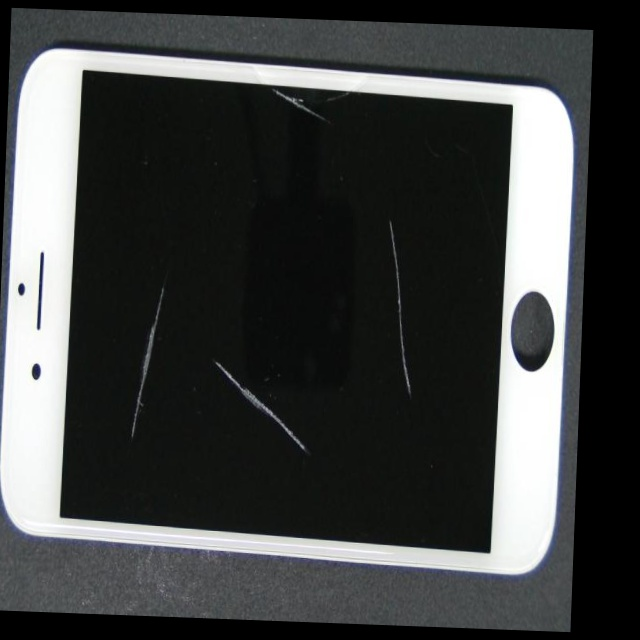scratch: (201, 289, 427, 621), (234, 324, 582, 493), (65, 144, 227, 414)
